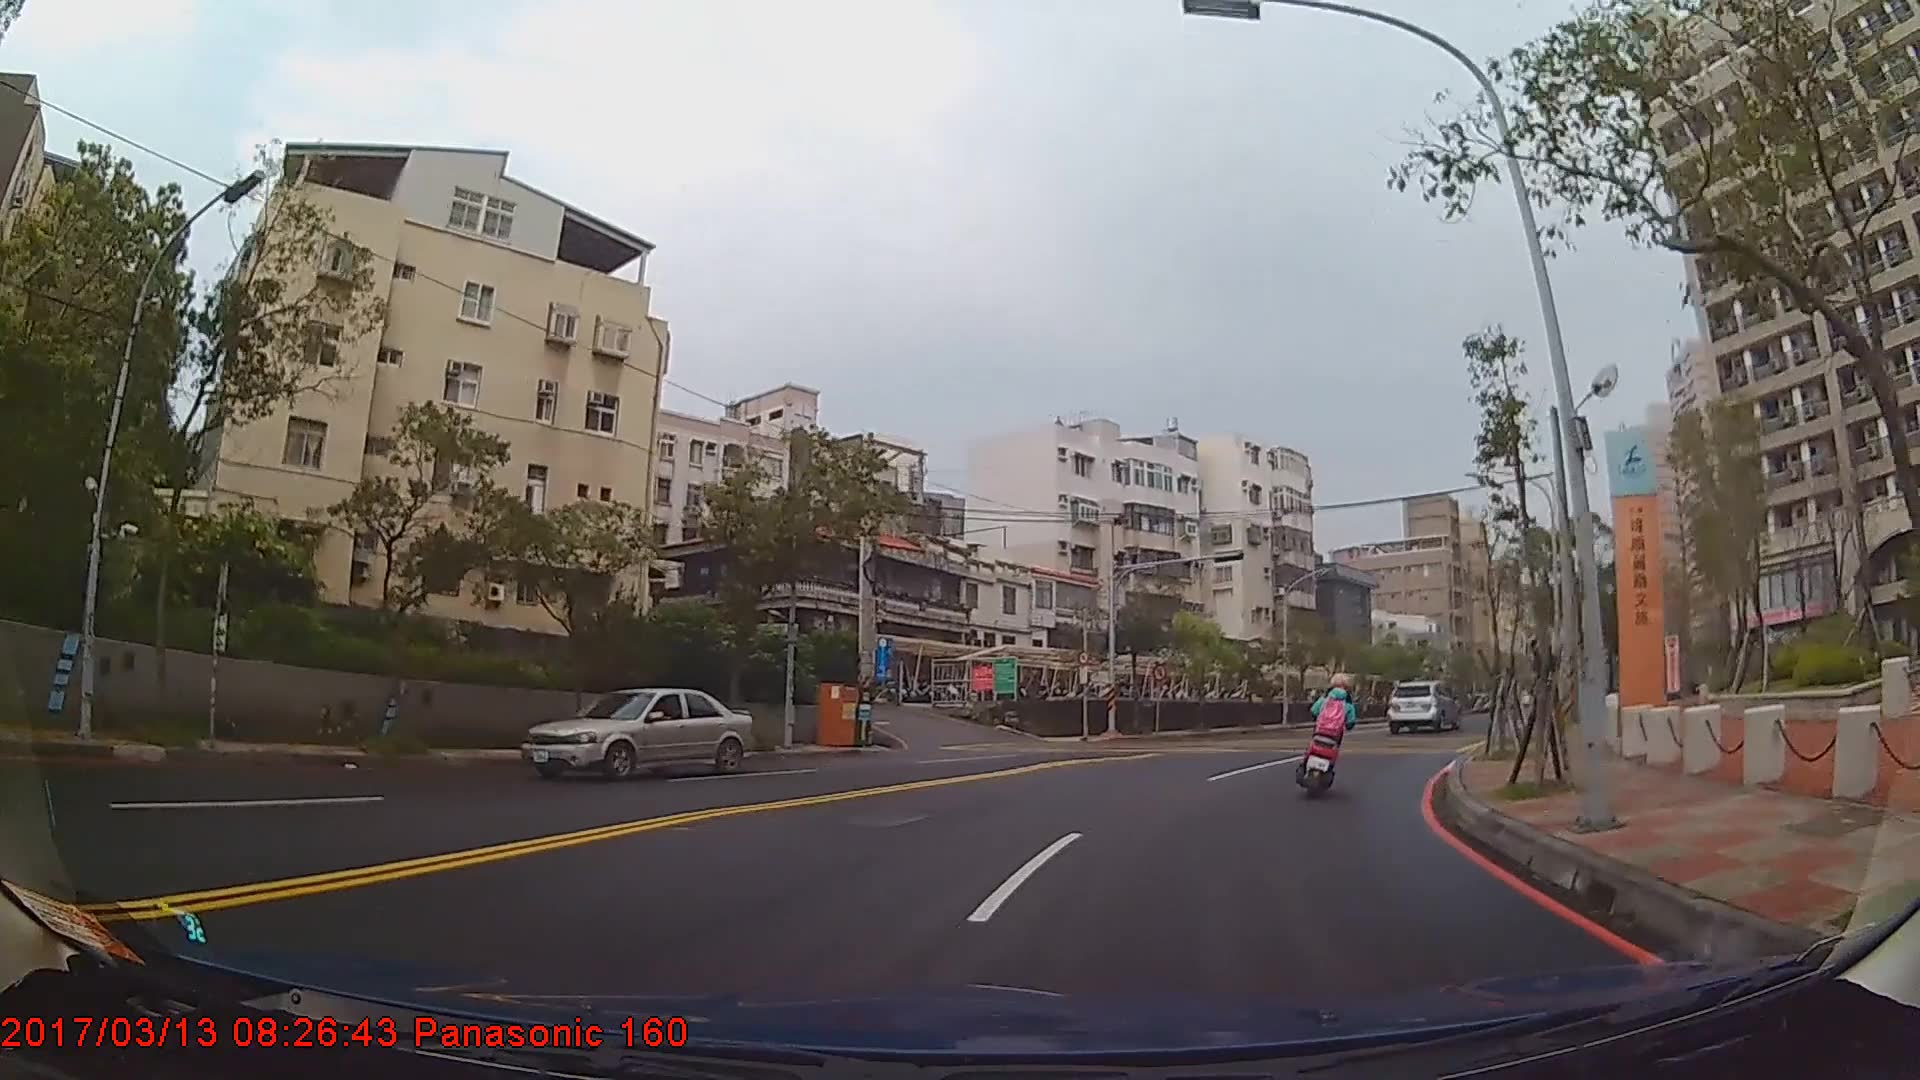rider: (1302, 673, 1361, 795)
vehicle: (522, 688, 756, 785), (1387, 678, 1456, 733)
